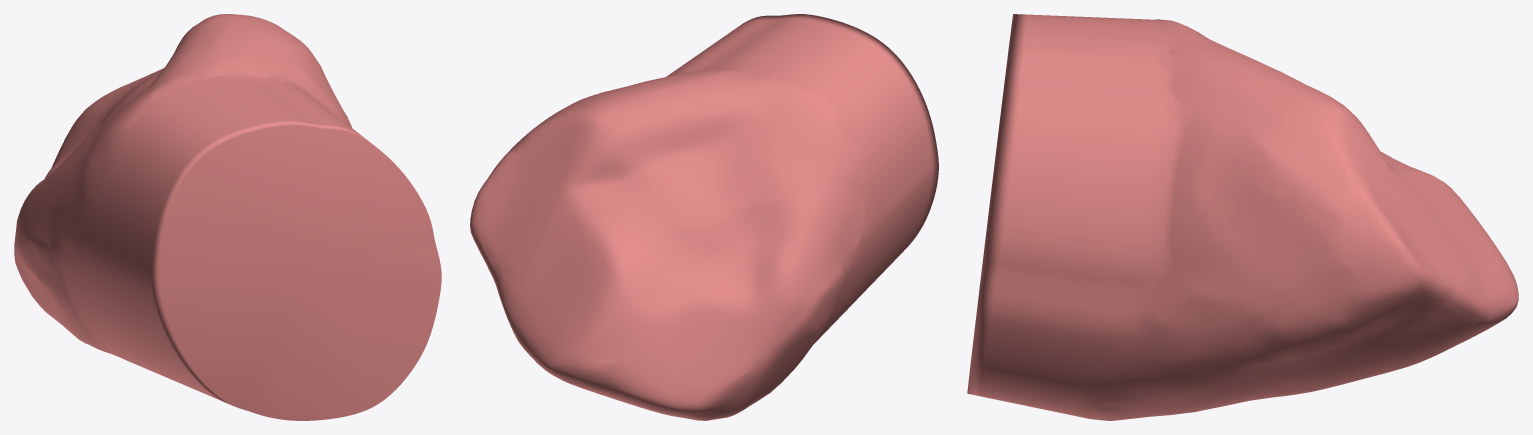
3 renders of one model, left to right at view 1: azimuth 30°, elevation 25°; view 2: azimuth 150°, elevation 25°; view 3: azimuth 270°, elevation 25°, orthographic. The views are drawn at different scales.
Size of the model in its own units: 7.73 by 7.15 by 10.4.
